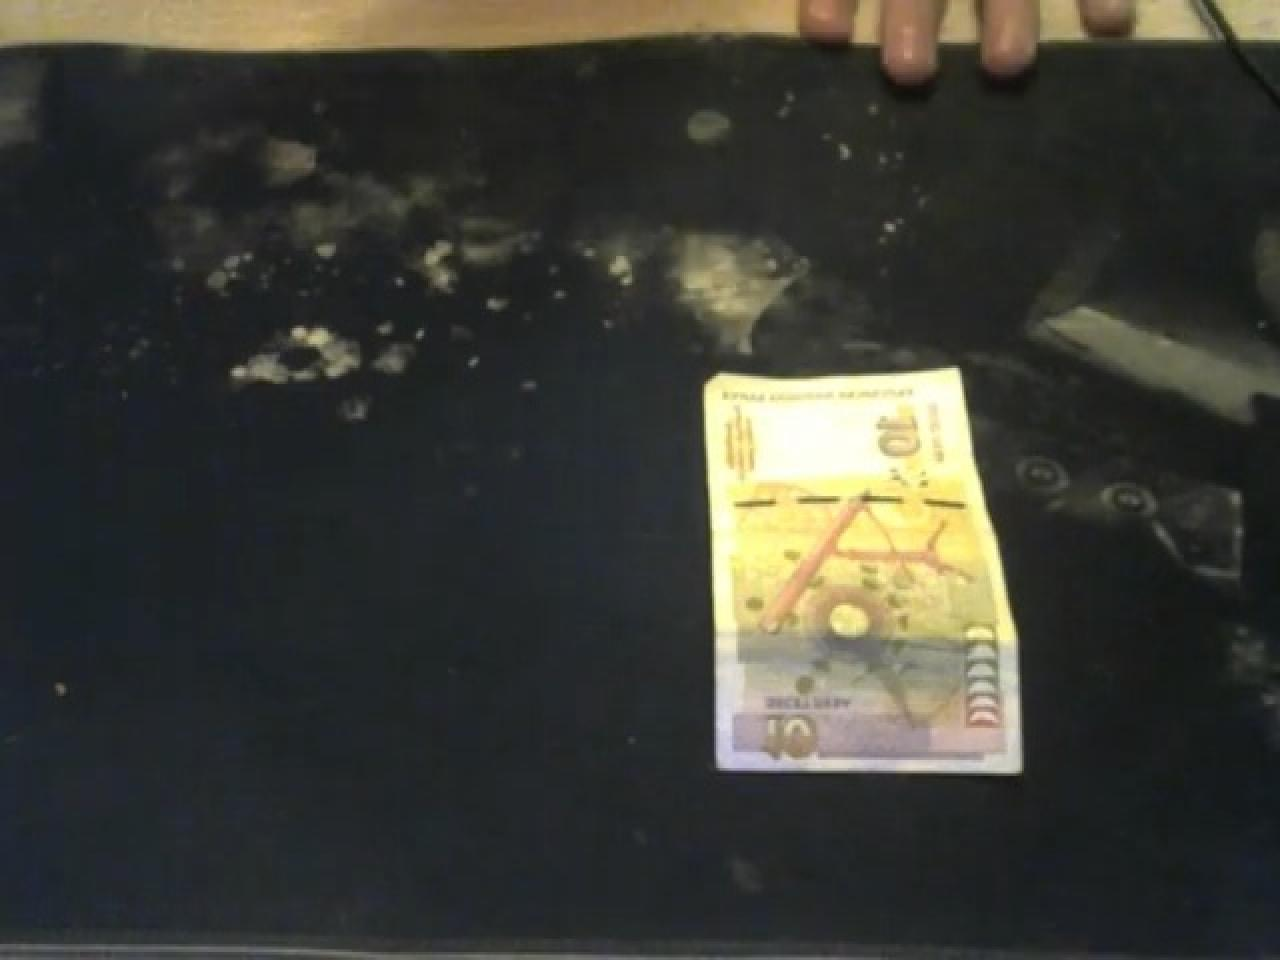10leva: (702, 371, 1026, 776)
